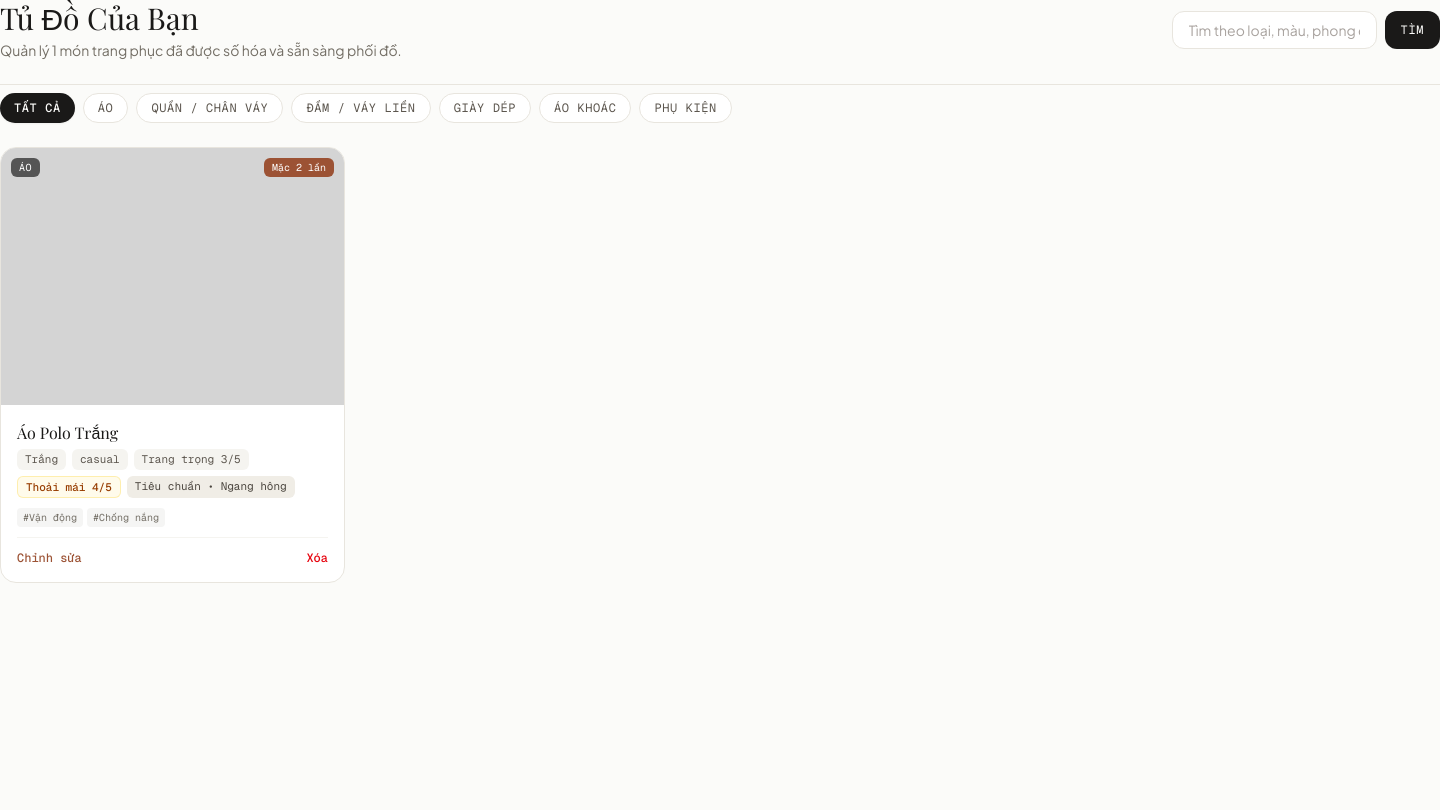
Test: WardrobeInventory Component › allows soft-deleting an item with confirmation
Click the button with test id "delete-item-item-1". click: (317, 558)
box: [306,550,328,566]
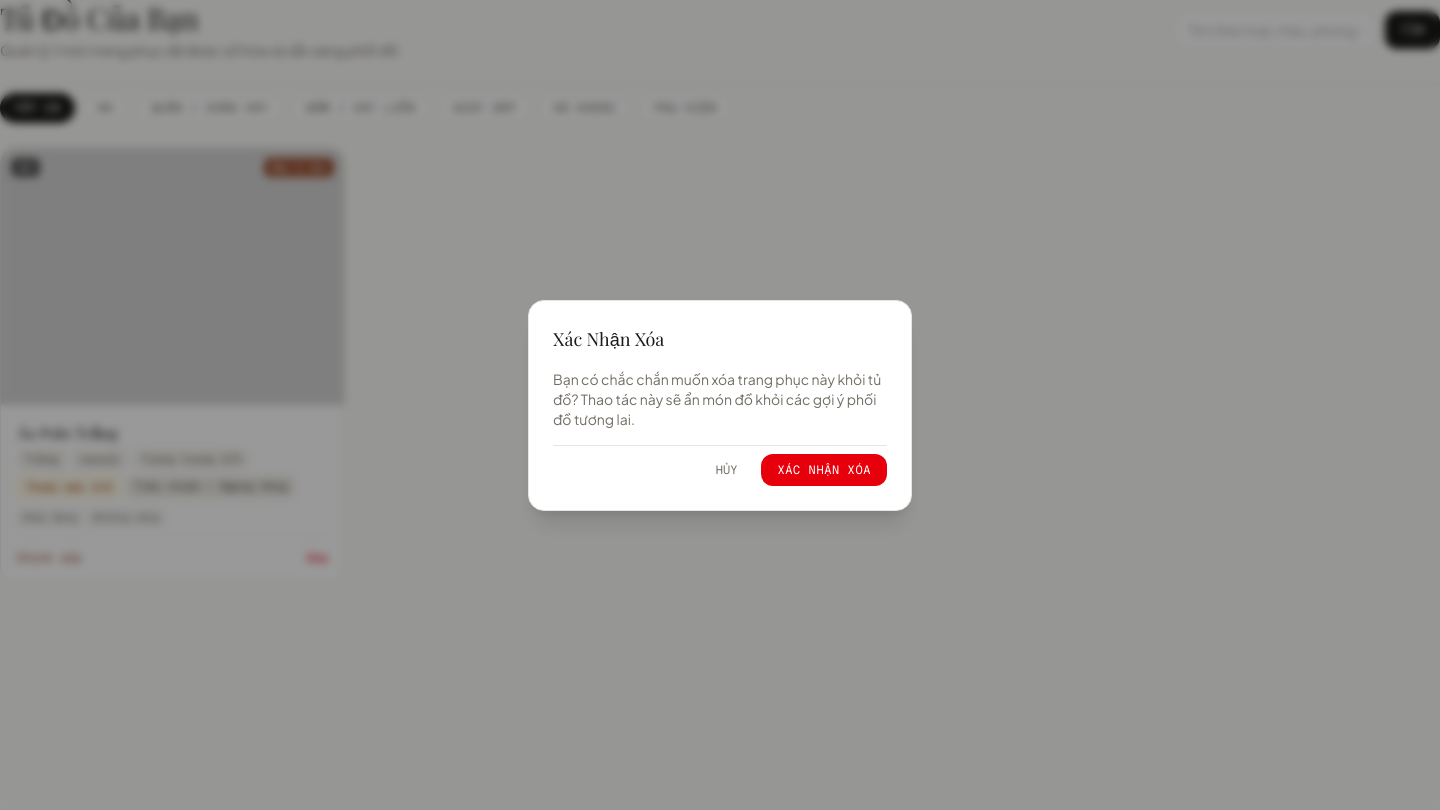
expect the heading "Xác Nhận Xóa" is shown: met, box [553,326,664,350]
Click the button with test id "confirm-delete-btn". click: (824, 470)
box: [761,454,887,486]
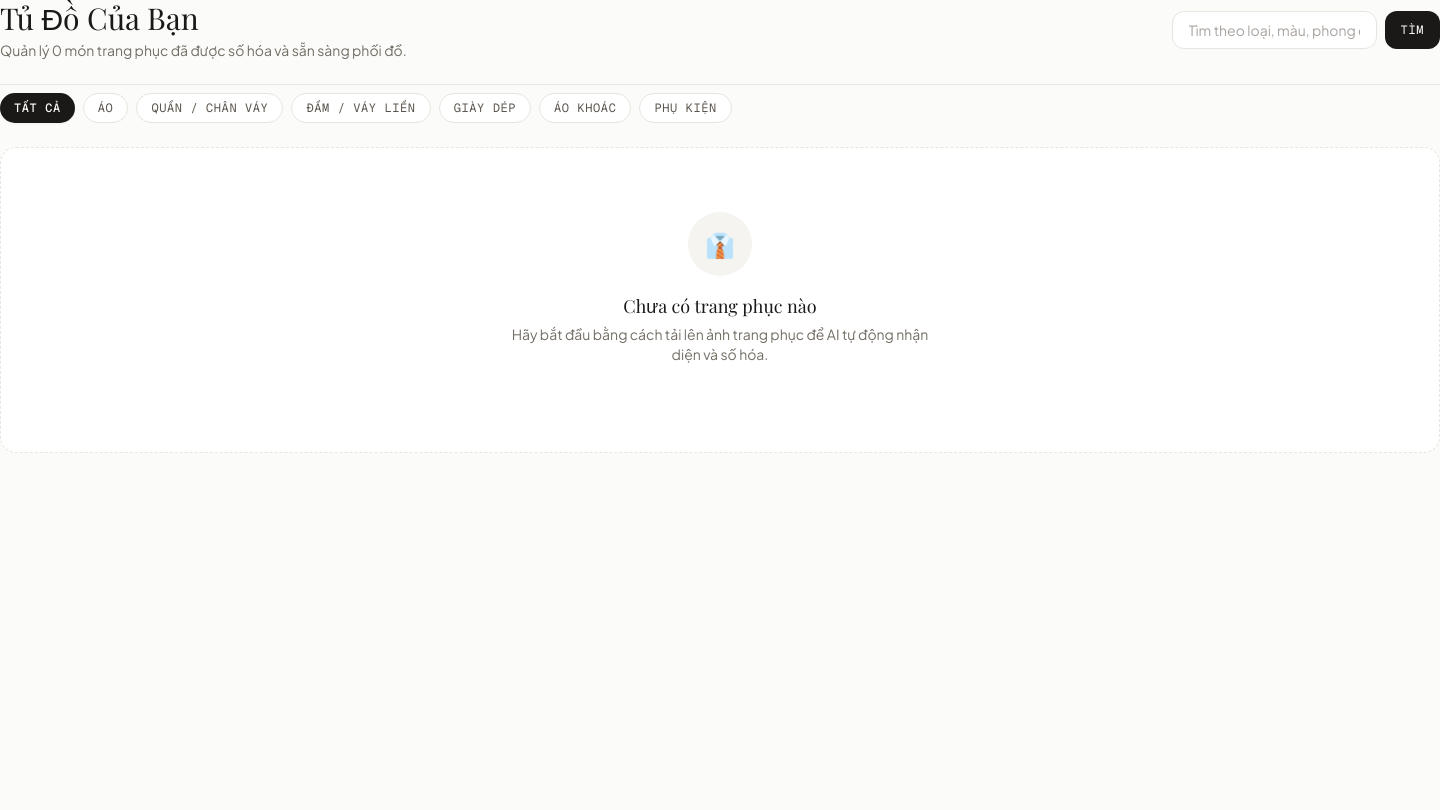
expect the element with test id "wardrobe-item-card-item-1" is gone: met
